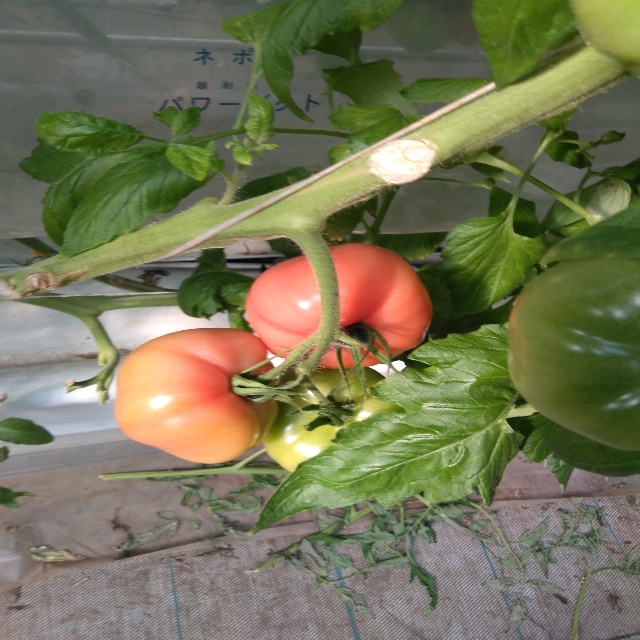b_green: (505, 256, 639, 452), (260, 363, 405, 473), (572, 0, 639, 78)
b_half_ripened: (244, 243, 433, 369), (115, 327, 278, 464)
